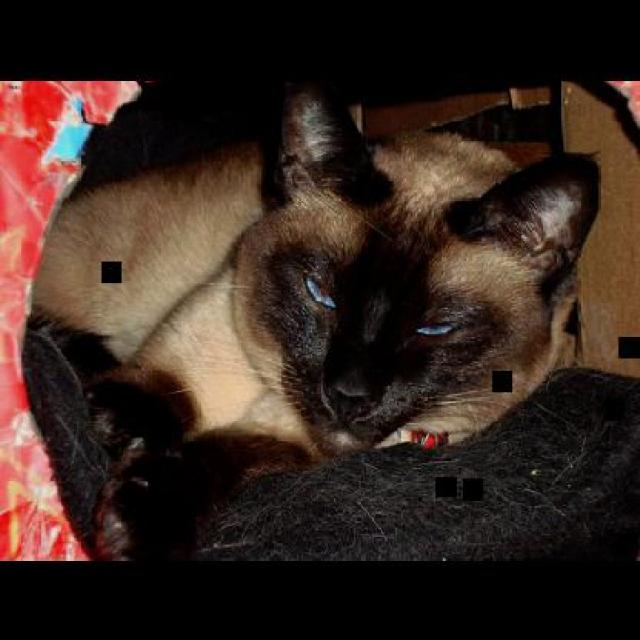unauthorized: (20, 80, 600, 558)
